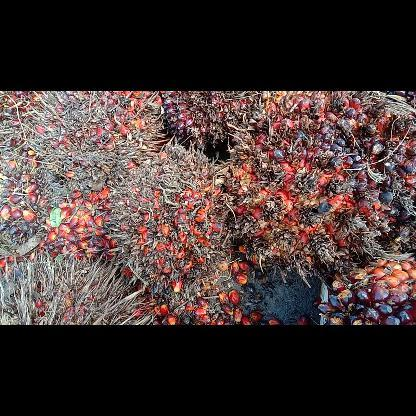Terlalu masak: (228, 91, 414, 291), (102, 136, 240, 310), (15, 91, 169, 205), (158, 91, 302, 151), (316, 254, 416, 324)
